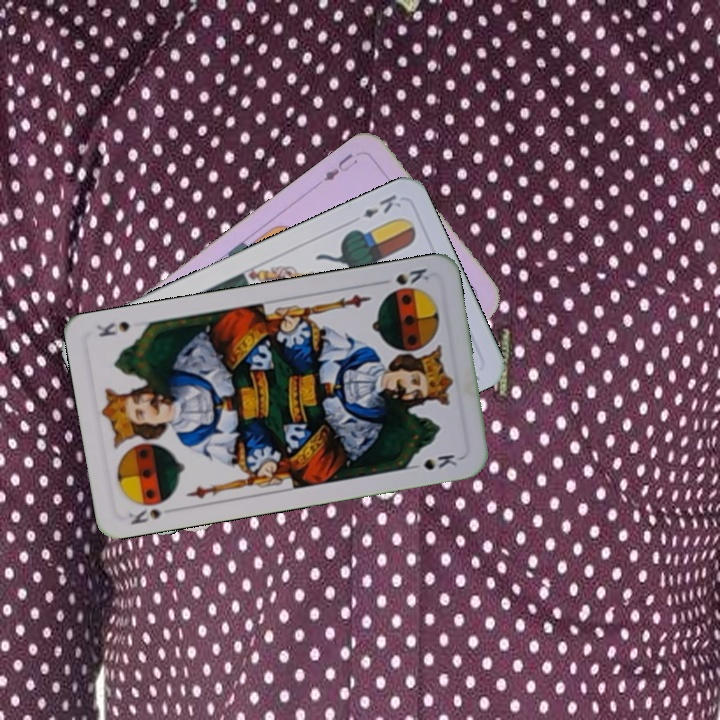EK: (359, 190, 404, 221)
EU: (319, 149, 360, 185)
SK: (125, 494, 174, 527), (391, 264, 432, 288)
